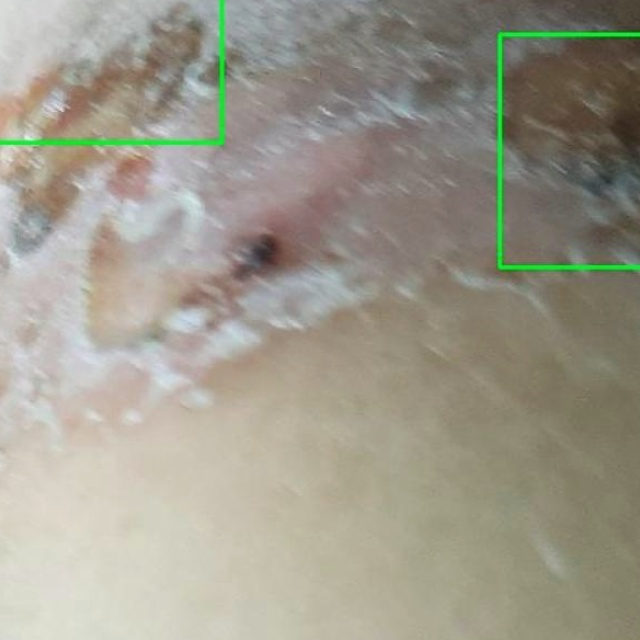Contact Dermatitis: (499, 34, 639, 267), (0, 0, 221, 142)
